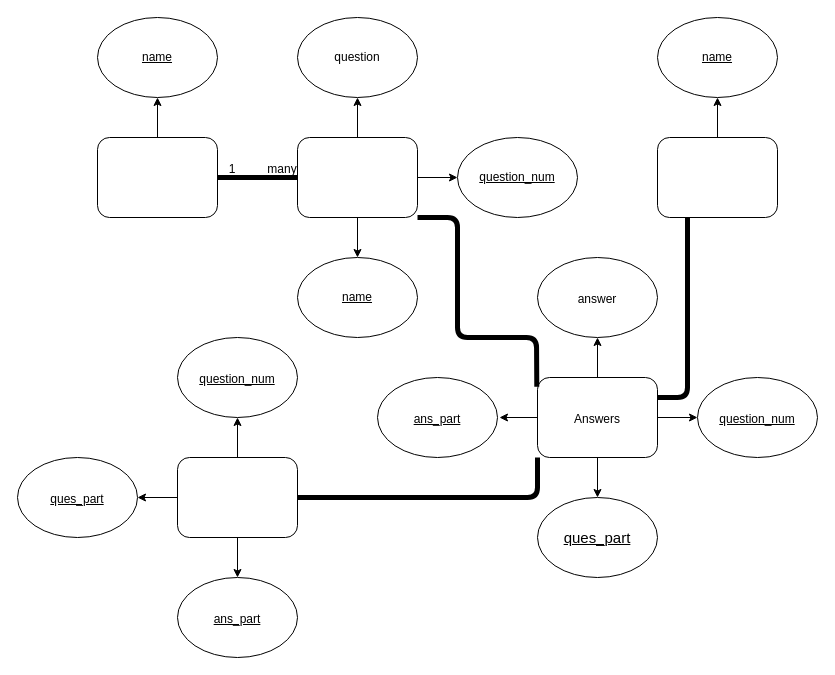
This 835x675 diagram has some shape labels left out. Here are the shapes that lost their labels. From the top down, the centre of each, then its label:
At point (157, 177): "Parts".
At point (357, 177): "Questions".
At point (717, 177): "AnswerParts".
At point (237, 497): "Correct".
